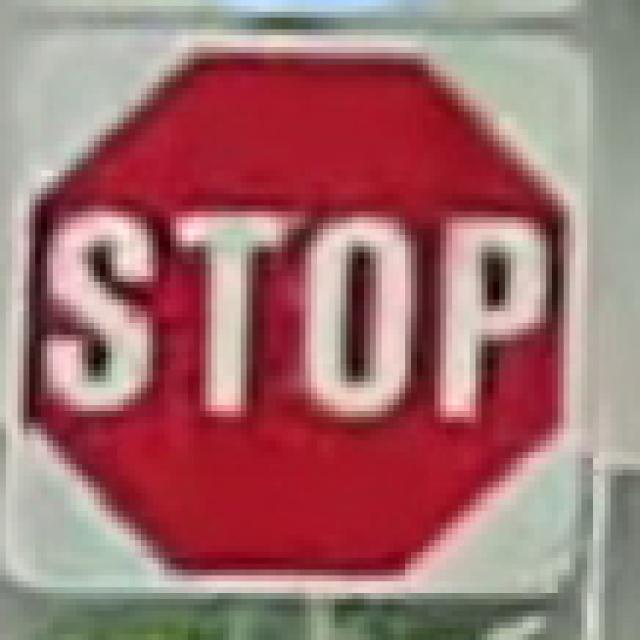mandatorystop_sign: (12, 35, 581, 587)
